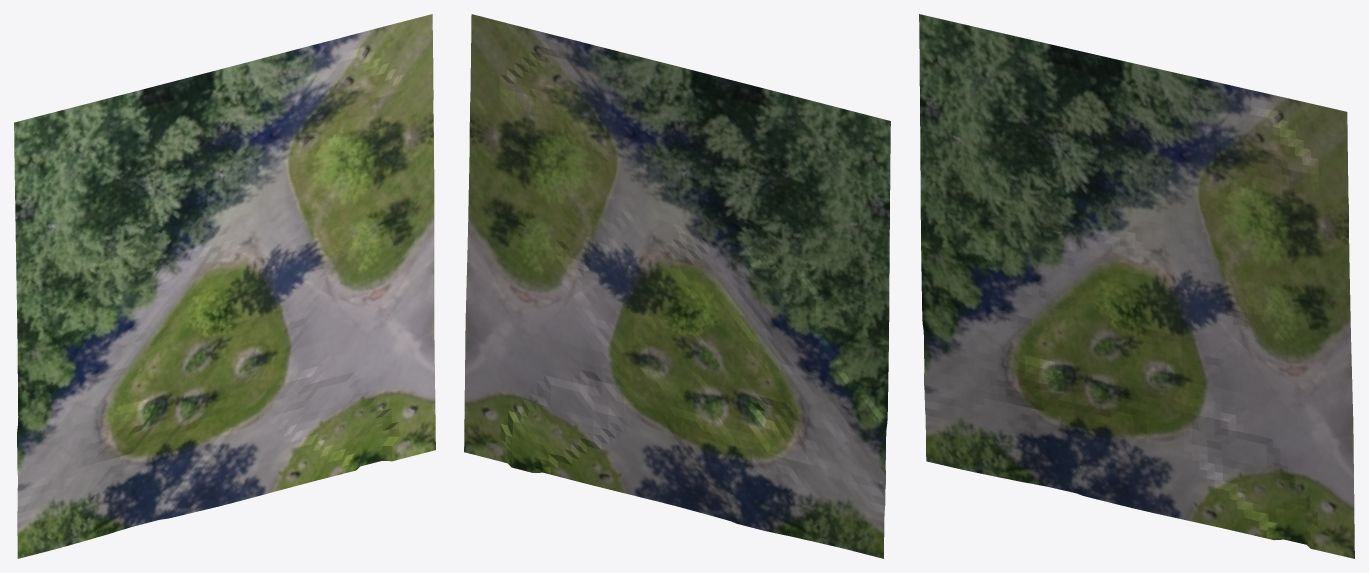
Rendered from odm_textured_model_geo.obj.
The picture shows the model from 3 angles, left to right: view 1: azimuth 30°, elevation 25°; view 2: azimuth 150°, elevation 25°; view 3: azimuth 330°, elevation 25°; orthographic projection. The views are drawn at different scales.
Size of the model in its own units: 34.85 by 34.85 by 1.14.
Materials: 1 (1 with a texture image).
